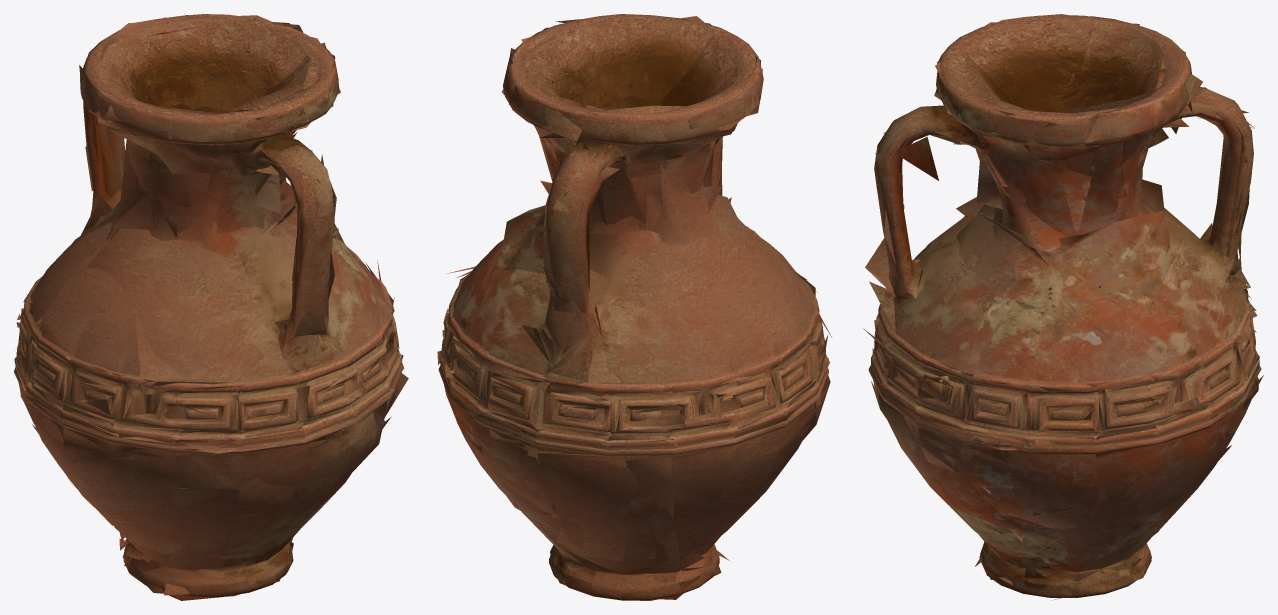
File: ancient-amphora.glb
3 views of the same model, side by side, from view 1: azimuth 30°, elevation 25°; view 2: azimuth 150°, elevation 25°; view 3: azimuth 270°, elevation 25° (orthographic).
Parts seen in each view (by area): view 1: ancient-amphora, ancient-amphora_far, ancient-amphora_lod; view 2: ancient-amphora, ancient-amphora_far, ancient-amphora_lod; view 3: ancient-amphora, ancient-amphora_far, ancient-amphora_lod.
Boxes of the visible parts, x1,y1,x2,y2 form: ancient-amphora: (14,14,401,596); ancient-amphora_far: (16,18,408,599); ancient-amphora_lod: (15,14,404,600); ancient-amphora: (438,14,828,600); ancient-amphora_far: (437,21,829,599); ancient-amphora_lod: (439,16,831,600); ancient-amphora: (868,15,1261,597); ancient-amphora_far: (863,14,1263,585); ancient-amphora_lod: (871,14,1259,599).
Bounding box in the file's own units: 2.05 × 2.83 × 2.04.
Materials: 1 (1 with a texture image).
